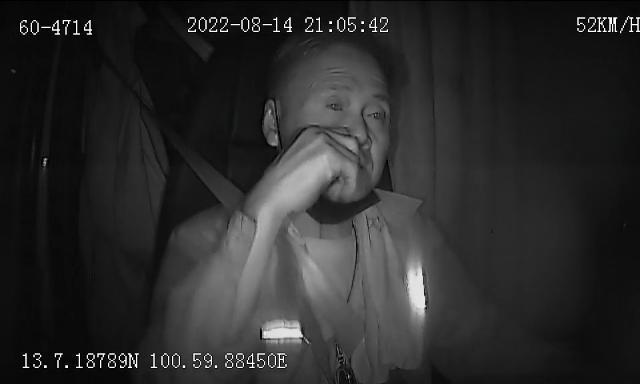SafeDriving: (359, 97, 391, 129)
Seatbelt: (170, 136, 252, 210)
